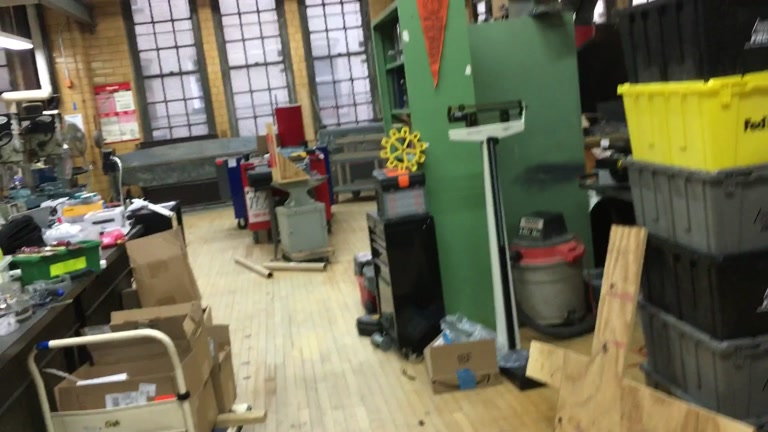gear: (379, 124, 425, 172)
